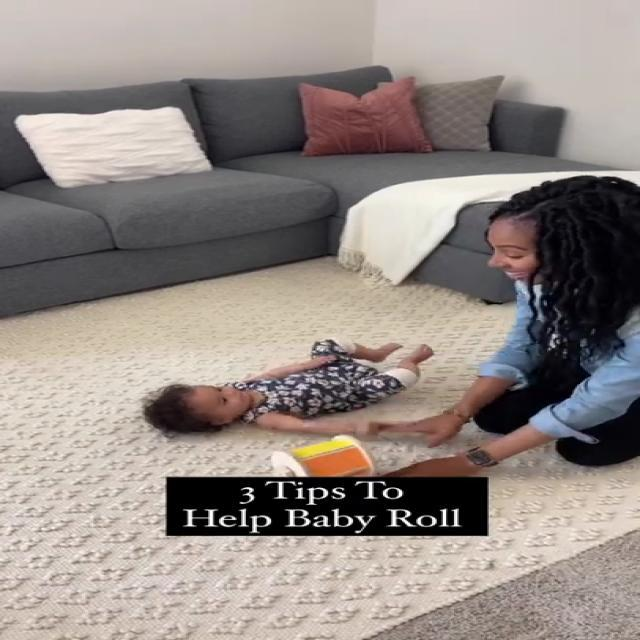baby: (140, 336, 452, 439)
